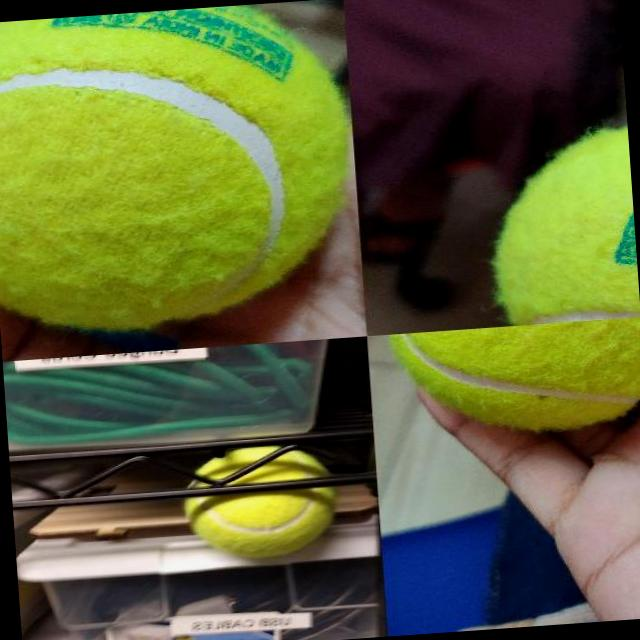Tennis Ball: (0, 0, 359, 334), (486, 112, 640, 325), (387, 317, 640, 440), (178, 442, 339, 564)
